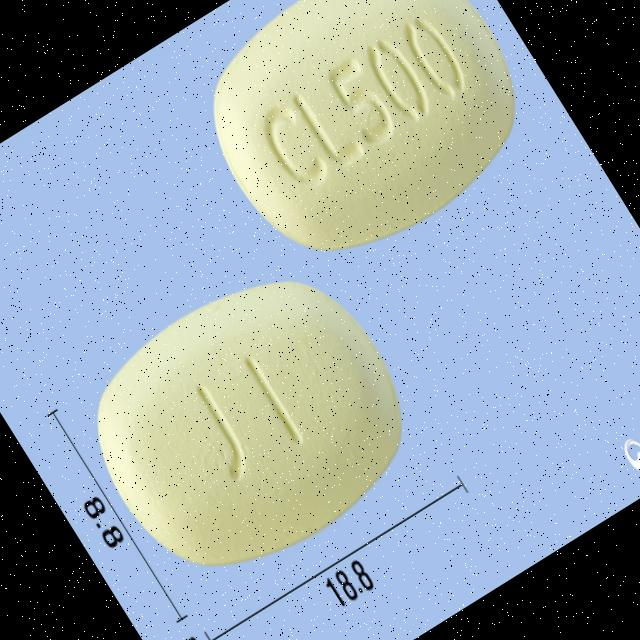Jecli: (54, 234, 442, 609), (171, 0, 556, 291)
